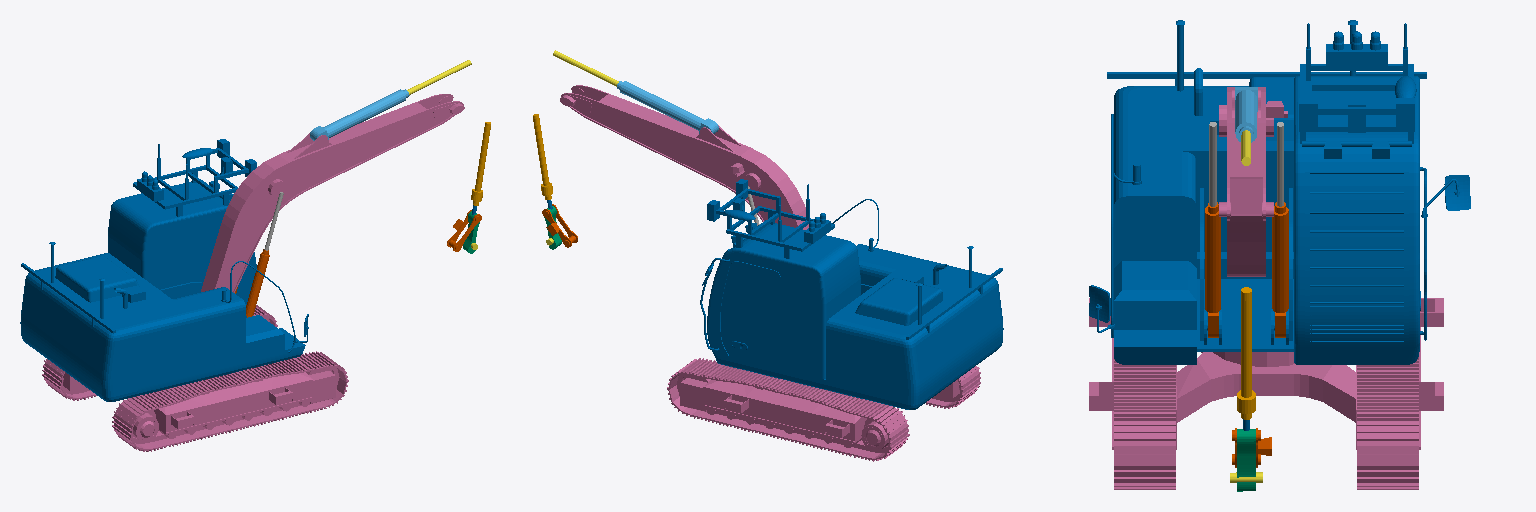
URDF robot description (zx120):
<?xml version="1.0" encoding="UTF-8"?>
<robot name="zx120">
  <joint name="world_joint" type="fixed">
    <origin xyz="0. 0. 0." rpy="0. 0. 0. "/>
    <parent link="world_link"/>
    <child link="caterpillar_link"/>
  </joint>
  <joint name="arm_cylinder_joint" type="continuous">
    <origin xyz="-1.0942609 0. 2.6658185" rpy="0. -1.2787697 0. "/>
    <parent link="boom_link"/>
    <child link="arm_cylinder_link"/>
    <axis xyz="0. 1. 0."/>
  </joint>
  <joint name="arm_joint" type="revolute">
    <origin xyz="0.0056535 0.0000031 4.6000023" rpy="0. -1.1837714 0. "/>
    <parent link="boom_link"/>
    <child link="arm_link"/>
    <axis xyz="0. 1. 0."/>
    <limit lower="-1.4235988" upper="0.705" effort="1e8" velocity="0.5"/>
  </joint>
  <joint name="arm_piston_joint" type="prismatic">
    <origin xyz="1.1360391 0.0000032 0.0000103" rpy="0. 0.0000016 0. "/>
    <parent link="arm_cylinder_link"/>
    <child link="arm_piston_link"/>
    <axis xyz="1. 0. 0."/>
    <limit lower="-10." upper="10." effort="1e8" velocity="0."/>
  </joint>
  <joint name="body_joint" type="revolute">
    <origin xyz="0.0000026 0.0000012 0.9999909" rpy="0. 0. 0."/>
    <parent link="caterpillar_link"/>
    <child link="body_link"/>
    <axis xyz="0. 0. 1."/>
    <limit lower="-3.14159265359" upper="3.14159265359" effort="1e8" velocity="0.2"/>
  </joint>
  <joint name="boom_cylinder_joint" type="continuous">
    <origin xyz="0.494531 -0.162387 0. " rpy="0. -1.274003 0. "/>
    <parent link="body_link"/>
    <child link="boom_cylinder_link"/>
    <axis xyz="0. 1. 0."/>
  </joint>
  <joint name="boom_joint" type="revolute">
    <origin xyz="0.14 -0.1644299 0.4240001" rpy="0. 1.045967 0. "/>
    <parent link="body_link"/>
    <child link="boom_link"/>
    <axis xyz="0. 1. 0."/>
    <limit lower="-0.6981315" upper="1.2915439" effort="1e8" velocity="0.6159937255"/>
  </joint>
  <joint name="boom_piston_joint" type="prismatic">
    <origin xyz="0.2 0. 0. " rpy="0. 0. 0."/>
    <parent link="boom_cylinder_link"/>
    <child link="boom_piston_link"/>
    <axis xyz="1. 0. 0."/>
    <limit lower="-10." upper="10." effort="1e8" velocity="0."/>
  </joint>
  <joint name="bucket_cylinder_joint" type="continuous">
    <origin xyz="0.4844949 -0.0000032 -0.5066893" rpy="1.8657556 0.0050742 1.5540968"/>
    <parent link="arm_link"/>
    <child link="bucket_cylinder_link"/>
    <axis xyz="1. 0. 0."/>
  </joint>
  <joint name="bucket_end_joint" type="fixed">
    <origin xyz="0. 0. 1.23" rpy="0. 0.8726646 0. "/>
    <parent link="bucket_link"/>
    <child link="bucket_end_link"/>
  </joint>
  <joint name="bucket_h_linkage_joint" type="continuous">
    <origin xyz="0.492806 0. -0.00206 " rpy="3.1415927 0.5415757 3.1415927"/>
    <parent link="bucket_side_linkage_link"/>
    <child link="bucket_h_linkage_link"/>
    <axis xyz="0. 1. 0."/>
  </joint>
  <joint name="bucket_joint" type="revolute">
    <origin xyz="-0.3747046 -0.0000032 -2.45944 " rpy="3.1415927 -0.5395223 3.1415927"/>
    <parent link="arm_link"/>
    <child link="bucket_link"/>
    <axis xyz="0. 1. 0."/>
    <limit lower="-0.1" upper="2.9717701" effort="1e8" velocity="0.5"/>
  </joint>
  <joint name="bucket_piston_joint" type="prismatic">
    <origin xyz="0. -0.256193 0. " rpy="0. 0. -1.5707964"/>
    <parent link="bucket_cylinder_link"/>
    <child link="bucket_piston_link"/>
    <axis xyz="1. 0. 0."/>
    <limit lower="-10." upper="10." effort="1e8" velocity="0."/>
  </joint>
  <joint name="bucket_side_linkage_joint" type="continuous">
    <origin xyz="-0.3174088 -0.0000032 -2.2056658" rpy="0. -0.6997983 0. "/>
    <parent link="arm_link"/>
    <child link="bucket_side_linkage_link"/>
    <axis xyz="0. 1. 0."/>
  </joint>
  <link name="world_link"/>
  <link name="arm_cylinder_link">
    <inertial>
      <origin xyz="0. 0. 0." rpy="0. 0. 0."/>
      <mass value="65.8099976"/>
      <inertia ixx="0.01" ixy="0." ixz="0." iyy="9.95" iyz="0." izz="9.95"/>
    </inertial>
    <visual>
      <origin xyz="0. 0. 0." rpy="0. 0. 0."/>
      <geometry>
        <mesh filename="package://zx120_description/meshes/bm_R_Cyl.dae" scale="1. 1. 1."/>
      </geometry>
    </visual>
    <collision>
      <origin xyz="0. 0. 0." rpy="0. 0. 0."/>
      <geometry>
        <mesh filename="package://zx120_description/meshes/bm_R_Cyl.dae" scale="1. 1. 1."/>
      </geometry>
    </collision>
  </link>
  <link name="arm_link">
    <inertial>
      <origin xyz="0. 0. 0." rpy="0. 0. 0."/>
      <mass value="480."/>
      <inertia ixx="14.24" ixy="0." ixz="31.36" iyy="319.92" iyz="0." izz="309.47"/>
    </inertial>
    <visual>
      <origin xyz="-0.0000033 -0.0000032 -0.0000078" rpy="0. 0.2950017 0. "/>
      <geometry>
        <mesh filename="package://zx120_description/meshes/arm_visual_geometry_arm.dae" scale="1. 1. 1."/>
      </geometry>
    </visual>
    <collision>
      <origin xyz="-0.0000033 -0.0000032 -0.0000078" rpy="0. 0.2950017 0. "/>
      <geometry>
        <mesh filename="package://zx120_description/meshes/arm_collision_geometry_arm.dae" scale="1. 1. 1."/>
      </geometry>
    </collision>
  </link>
  <link name="arm_piston_link">
    <inertial>
      <origin xyz="0. 0. 0." rpy="0. 0. 0."/>
      <mass value="48.1800003"/>
      <inertia ixx="0.01" ixy="0." ixz="0." iyy="9.83" iyz="0." izz="9.83"/>
    </inertial>
    <visual>
      <origin xyz="-0.0241023 -0.0000032 -0.0000103" rpy="0. -0.0000016 0. "/>
      <geometry>
        <mesh filename="package://zx120_description/meshes/bm_D_Cyl.dae" scale="1. 1. 1."/>
      </geometry>
    </visual>
    <collision>
      <origin xyz="-0.0241023 -0.0000032 -0.0000103" rpy="0. -0.0000016 0. "/>
      <geometry>
        <mesh filename="package://zx120_description/meshes/bm_D_Cyl.dae" scale="1. 1. 1."/>
      </geometry>
    </collision>
  </link>
  <link name="body_link">
    <inertial>
      <origin xyz="0. 0. 0." rpy="0. 0. 0."/>
      <mass value="5000."/>
      <inertia ixx="1." ixy="0." ixz="0." iyy="1." iyz="0." izz="1."/>
    </inertial>
    <visual>
      <origin xyz="0. 0. 0." rpy="0. 0. 0."/>
      <geometry>
        <mesh filename="package://zx120_description/meshes/bd_bm_R_Cyl_dm.dae" scale="1. 1. 1."/>
      </geometry>
    </visual>
    <visual>
      <origin xyz="0. 0. 0." rpy="0. 0. 0."/>
      <geometry>
        <mesh filename="package://zx120_description/meshes/R_lamp001.dae" scale="1. 1. 1."/>
      </geometry>
    </visual>
    <visual>
      <origin xyz="0. 0. 0." rpy="0. 0. 0."/>
      <geometry>
        <mesh filename="package://zx120_description/meshes/Y_lamp001.dae" scale="1. 1. 1."/>
      </geometry>
    </visual>
    <visual>
      <origin xyz="0. 0. 0." rpy="0. 0. 0."/>
      <geometry>
        <mesh filename="package://zx120_description/meshes/G_lamp.dae" scale="1. 1. 1."/>
      </geometry>
    </visual>
    <visual>
      <origin xyz="0. 0. 0." rpy="0. 0. 0."/>
      <geometry>
        <mesh filename="package://zx120_description/meshes/bake_body.dae" scale="1. 1. 1."/>
      </geometry>
    </visual>
    <collision>
      <origin xyz="0. 0. 0." rpy="0. 0. 0."/>
      <geometry>
        <mesh filename="package://zx120_description/meshes/bake_body.dae" scale="1. 1. 1."/>
      </geometry>
    </collision>
  </link>
  <link name="boom_cylinder_link">
    <inertial>
      <origin xyz="0. 0. 0." rpy="0. 0. 0."/>
      <mass value="131.6199951"/>
      <inertia ixx="9.216249" ixy="0." ixz="0." iyy="27.606432" iyz="0." izz="36.503907"/>
    </inertial>
    <visual>
      <origin xyz="0. 0. 0." rpy="0. 0. 0."/>
      <geometry>
        <mesh filename="package://zx120_description/meshes/bd_bm_R_Cyl_001.dae" scale="1. 1. 1."/>
      </geometry>
    </visual>
    <collision>
      <origin xyz="0. 0. 0." rpy="0. 0. 0."/>
      <geometry>
        <mesh filename="package://zx120_description/meshes/bd_bm_R_Cyl_001.dae" scale="1. 1. 1."/>
      </geometry>
    </collision>
  </link>
  <link name="boom_link">
    <inertial>
      <origin xyz="0. 0. 0." rpy="0. 0. 0."/>
      <mass value="1010."/>
      <inertia ixx="103.9" ixy="0." ixz="44.8" iyy="1574.1" iyz="0." izz="1489.6"/>
    </inertial>
    <visual>
      <origin xyz="0.0000001 -0.0000001 -0. " rpy="0. -1.1837697 0. "/>
      <geometry>
        <mesh filename="package://zx120_description/meshes/boom_visual_geometry_boom.dae" scale="1. 1. 1."/>
      </geometry>
    </visual>
    <collision>
      <origin xyz="0.0000001 -0.0000001 -0. " rpy="0. -1.1837697 0. "/>
      <geometry>
        <mesh filename="package://zx120_description/meshes/boom_collision_geometry_boom.dae" scale="1. 1. 1."/>
      </geometry>
    </collision>
  </link>
  <link name="boom_piston_link">
    <inertial>
      <origin xyz="0. 0. 0." rpy="0. 0. 0."/>
      <mass value="98.0056"/>
      <inertia ixx="6.6836" ixy="0." ixz="0." iyy="22.5995" iyz="0." izz="29.2292"/>
    </inertial>
    <visual>
      <origin xyz="0. 0. 0." rpy="0. 0. 0."/>
      <geometry>
        <mesh filename="package://zx120_description/meshes/bd_bm_D_Cyl_002.dae" scale="1. 1. 1."/>
      </geometry>
    </visual>
    <collision>
      <origin xyz="0. 0. 0." rpy="0. 0. 0."/>
      <geometry>
        <mesh filename="package://zx120_description/meshes/bd_bm_D_Cyl_002.dae" scale="1. 1. 1."/>
      </geometry>
    </collision>
  </link>
  <link name="bucket_cylinder_link">
    <inertial>
      <origin xyz="0. 0. 0." rpy="0. 0. 0."/>
      <mass value="65.8099976"/>
      <inertia ixx="0.01" ixy="0." ixz="0." iyy="9.95" iyz="0." izz="9.95"/>
    </inertial>
    <visual>
      <origin xyz="0. 0. 0." rpy="0. 0. -1.5707964"/>
      <geometry>
        <mesh filename="package://zx120_description/meshes/arm_R_Cyl.dae" scale="1. 1. 1."/>
      </geometry>
    </visual>
    <collision>
      <origin xyz="0. 0. 0." rpy="0. 0. -1.5707964"/>
      <geometry>
        <mesh filename="package://zx120_description/meshes/arm_R_Cyl.dae" scale="1. 1. 1."/>
      </geometry>
    </collision>
  </link>
  <link name="bucket_end_link">
    <inertial>
      <origin xyz="0. 0. 0." rpy="0. 0. 0."/>
      <mass value="0.001"/>
      <inertia ixx="1e-6" ixy="0." ixz="0." iyy="1e-6" iyz="0." izz="1e-6"/>
    </inertial>
  </link>
  <link name="bucket_h_linkage_link">
    <inertial>
      <origin xyz="0. 0. 0." rpy="0. 0. 0."/>
      <mass value="57.4500008"/>
      <inertia ixx="0.29" ixy="0." ixz="0." iyy="1.63" iyz="0." izz="1.88"/>
    </inertial>
    <visual>
      <origin xyz="0. 0. 0." rpy="0. 0. 0."/>
      <geometry>
        <mesh filename="package://zx120_description/meshes/arm_bk_C_2.dae" scale="1. 1. 1."/>
      </geometry>
    </visual>
    <collision>
      <origin xyz="0. 0. 0." rpy="0. 0. 0."/>
      <geometry>
        <mesh filename="package://zx120_description/meshes/arm_bk_C_2.dae" scale="1. 1. 1."/>
      </geometry>
    </collision>
  </link>
  <link name="bucket_link">
    <inertial>
      <origin xyz="0. 0. 0." rpy="0. 0. 0."/>
      <mass value="351.5"/>
      <inertia ixx="51.39" ixy="0." ixz="10.40" iyy="77.64" iyz="0." izz="91.99"/>
    </inertial>
    <visual>
      <origin xyz="0. 0. 0." rpy="0. 0. 0."/>
      <geometry>
        <mesh filename="package://zx120_description/meshes/bucket_visual_geometry_bk_C_dm.dae" scale="1. 1. 1."/>
      </geometry>
    </visual>
    <visual>
      <origin xyz="0. 0. 0." rpy="0. 0. 0."/>
      <geometry>
        <mesh filename="package://zx120_description/meshes/bucket_visual_geometry_arm_bk_dm.dae" scale="1. 1. 1."/>
      </geometry>
    </visual>
    <visual>
      <origin xyz="0. 0. 0." rpy="0. 0. 0."/>
      <geometry>
        <mesh filename="package://zx120_description/meshes/bucket_visual_geometry_backet.dae" scale="1. 1. 1."/>
      </geometry>
    </visual>
    <collision>
      <origin xyz="0. 0. 0." rpy="0. 0. 0."/>
      <geometry>
        <mesh filename="package://zx120_description/meshes/bucket_collision_geometry_bk_C_dm.dae" scale="1. 1. 1."/>
      </geometry>
    </collision>
    <collision>
      <origin xyz="0. 0. 0." rpy="0. 0. 0."/>
      <geometry>
        <mesh filename="package://zx120_description/meshes/bucket_collision_geometry_arm_bk_dm.dae" scale="1. 1. 1."/>
      </geometry>
    </collision>
    <collision>
      <origin xyz="0. 0. 0." rpy="0. 0. 0."/>
      <geometry>
        <mesh filename="package://zx120_description/meshes/bucket_collision_geometry_backet.dae" scale="1. 1. 1."/>
      </geometry>
    </collision>
  </link>
  <link name="bucket_piston_link">
    <inertial>
      <origin xyz="0. 0. 0." rpy="0. 0. 0."/>
      <mass value="48.1899986"/>
      <inertia ixx="0.01" ixy="0." ixz="0." iyy="9.83" iyz="0." izz="9.83"/>
    </inertial>
    <visual>
      <origin xyz="0. 0. 0." rpy="0. 0. 0."/>
      <geometry>
        <mesh filename="package://zx120_description/meshes/arm_D_Cyl_002.dae" scale="1. 1. 1."/>
      </geometry>
    </visual>
    <collision>
      <origin xyz="0. 0. 0." rpy="0. 0. 0."/>
      <geometry>
        <mesh filename="package://zx120_description/meshes/arm_D_Cyl_002.dae" scale="1. 1. 1."/>
      </geometry>
    </collision>
  </link>
  <link name="bucket_side_linkage_link">
    <inertial>
      <origin xyz="0. 0. 0." rpy="0. 0. 0."/>
      <mass value="16.3470993"/>
      <inertia ixx="0.2849" ixy="0." ixz="0." iyy="0.7623" iyz="0." izz="1.0241"/>
    </inertial>
    <visual>
      <origin xyz="0. 0. 0." rpy="0. 0. 0."/>
      <geometry>
        <mesh filename="package://zx120_description/meshes/arm_bk_C_1.dae" scale="1. 1. 1."/>
      </geometry>
    </visual>
    <visual>
      <origin xyz="0. 0. 0." rpy="0. 0. 0."/>
      <geometry>
        <mesh filename="package://zx120_description/meshes/arm_C_bk_dm.dae" scale="1. 1. 1."/>
      </geometry>
    </visual>
    <visual>
      <origin xyz="0. 0. 0." rpy="0. 0. 0."/>
      <geometry>
        <mesh filename="package://zx120_description/meshes/arm_C_dm.dae" scale="1. 1. 1."/>
      </geometry>
    </visual>
     <collision>
      <origin xyz="0. 0. 0." rpy="0. 0. 0."/>
      <geometry>
        <mesh filename="package://zx120_description/meshes/arm_bk_C_1.dae" scale="1. 1. 1."/>
      </geometry>
    </collision>
    <collision>
      <origin xyz="0. 0. 0." rpy="0. 0. 0."/>
      <geometry>
        <mesh filename="package://zx120_description/meshes/arm_C_bk_dm.dae" scale="1. 1. 1."/>
      </geometry>
    </collision>
    <collision>
      <origin xyz="0. 0. 0." rpy="0. 0. 0."/>
      <geometry>
        <mesh filename="package://zx120_description/meshes/arm_C_dm.dae" scale="1. 1. 1."/>
      </geometry>
    </collision>
  </link>
  <link name="caterpillar_link">
    <inertial>
      <origin xyz="0. 0. 0." rpy="0. 0. 0."/>
      <mass value="50000."/>
      <inertia ixx="1." ixy="0." ixz="0." iyy="1." iyz="0." izz="1."/>
    </inertial>
    <visual>
      <origin xyz="0.0000026 0.0000012 -0.000009 " rpy="0. 0. 0."/>
      <geometry>
        <mesh filename="package://zx120_description/meshes/bake_body_001.dae" scale="1. 1. 1."/>
      </geometry>
    </visual>
    <collision>
      <origin xyz="0.0000026 0.0000012 -0.000009 " rpy="0. 0. 0."/>
      <geometry>
        <mesh filename="package://zx120_description/meshes/bake_body_001.dae" scale="1. 1. 1."/>
      </geometry>
    </collision>
  </link>
</robot>

--- What the picture shows (computed from the rendered views, not written in the file) ---
The picture shows the robot from 3 angles, left to right: view 1: azimuth 30°, elevation 25°; view 2: azimuth 150°, elevation 25°; view 3: azimuth 270°, elevation 25°; orthographic projection.
Model zx120 with 15 links and 14 joints (4 revolute, 5 continuous, 3 prismatic, 2 fixed), rooted at world_link, posed all joints at 0.
Links seen in each view (by area): view 1: body_link, caterpillar_link, boom_link, arm_cylinder_link, boom_cylinder_link, bucket_cylinder_link; view 2: body_link, caterpillar_link, boom_link, arm_cylinder_link, bucket_cylinder_link, bucket_side_linkage_link; view 3: body_link, caterpillar_link, boom_link, boom_cylinder_link, bucket_cylinder_link, boom_piston_link, arm_cylinder_link, bucket_h_linkage_link.
Link boxes in pixels (left/top/right/bottom): body_link: left=20, top=139, right=308, bottom=401; caterpillar_link: left=42, top=305, right=348, bottom=451; boom_link: left=201, top=94, right=464, bottom=292; arm_cylinder_link: left=310, top=89, right=409, bottom=140; boom_cylinder_link: left=235, top=249, right=269, bottom=317; bucket_cylinder_link: left=471, top=122, right=490, bottom=205; body_link: left=700, top=179, right=1003, bottom=409; caterpillar_link: left=667, top=358, right=980, bottom=461; boom_link: left=560, top=85, right=808, bottom=229; arm_cylinder_link: left=617, top=81, right=718, bottom=133; bucket_cylinder_link: left=533, top=114, right=552, bottom=199; bucket_side_linkage_link: left=542, top=204, right=577, bottom=247; body_link: left=1089, top=20, right=1470, bottom=364; caterpillar_link: left=1089, top=298, right=1443, bottom=489; boom_link: left=1219, top=87, right=1287, bottom=276; boom_cylinder_link: left=1205, top=202, right=1288, bottom=337; bucket_cylinder_link: left=1237, top=287, right=1255, bottom=419; boom_piston_link: left=1209, top=122, right=1283, bottom=206; arm_cylinder_link: left=1235, top=87, right=1257, bottom=142; bucket_h_linkage_link: left=1237, top=429, right=1255, bottom=491.
Size in the robot's own frame: 6.92 by 3.11 by 4.33 metres.
Meshes: 21 distinct files referenced, 18 mesh visuals loaded (18 Collada DAE); not drawn: 3 (reference not matched to a file when rendering).